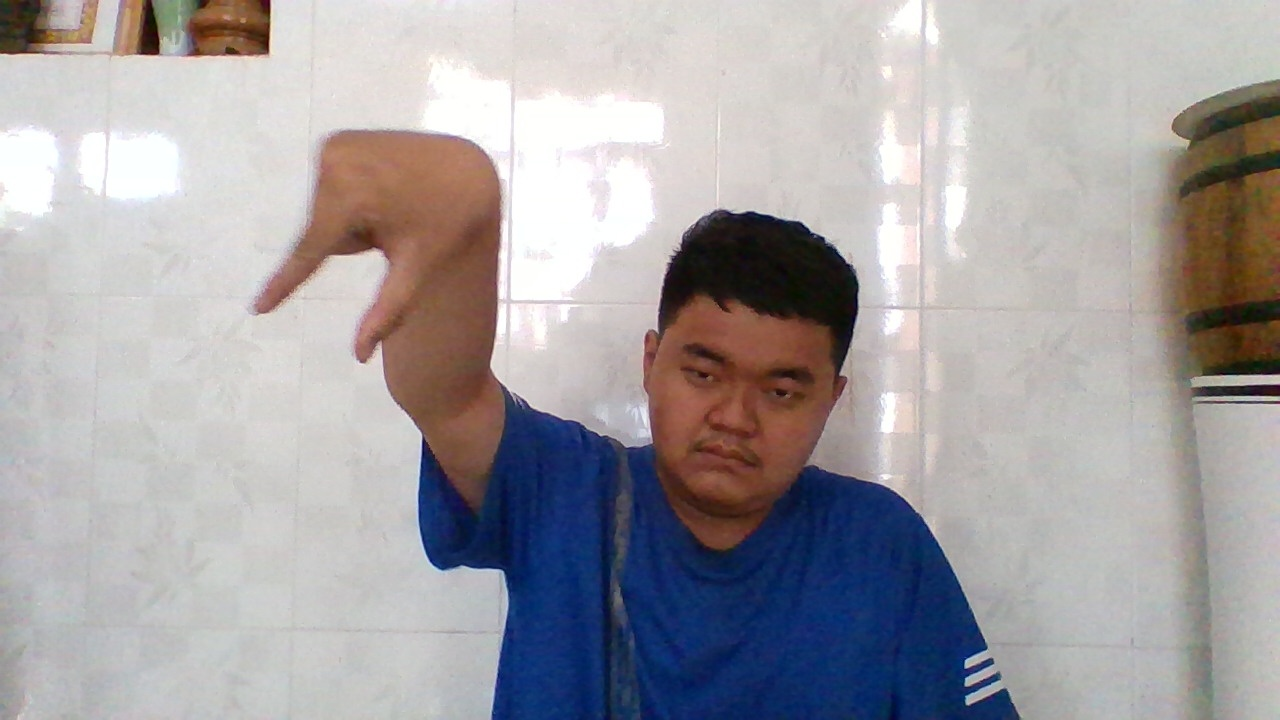Q: (242, 125, 484, 364)
